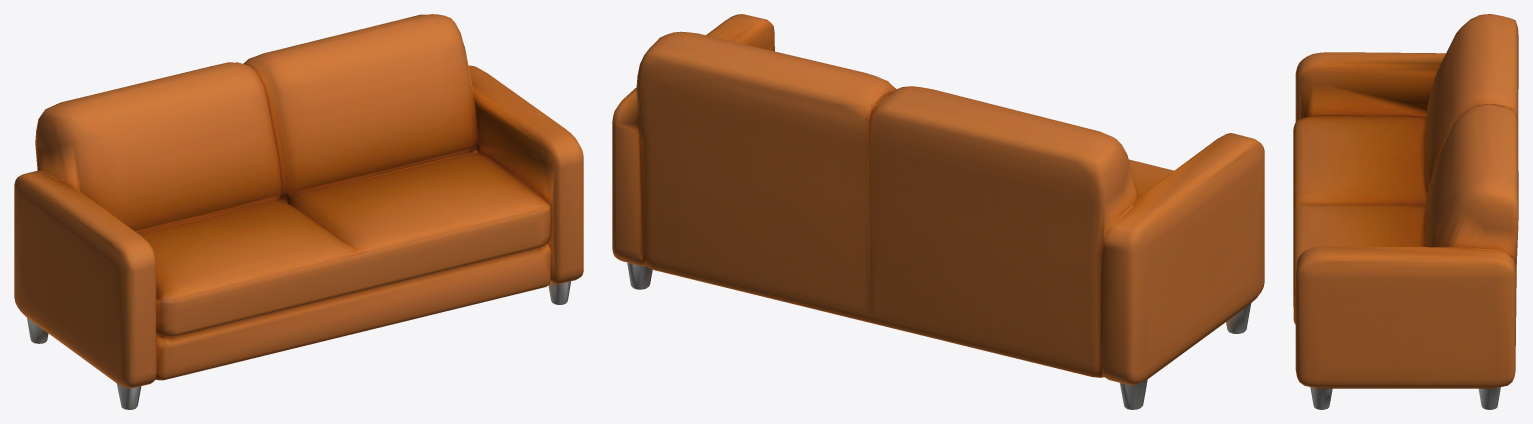
File: break_room_couch_444abf63_v4.glb
The picture shows the model from 3 angles, left to right: view 1: azimuth 30°, elevation 25°; view 2: azimuth 150°, elevation 25°; view 3: azimuth 270°, elevation 25°; orthographic projection. The views are drawn at different scales.
Parts seen in each view (by area): view 1: material; view 2: material; view 3: material.
Part boxes in pixels (bbox=[...]): material: bbox=[14, 14, 583, 409]; material: bbox=[612, 14, 1264, 409]; material: bbox=[1293, 14, 1518, 409].
Size of the model in its own units: 1.9 by 0.8944 by 0.8631.
Materials: 1 (1 with a texture image).
